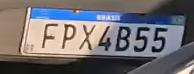Placa_mercosul_carro: (19, 6, 186, 57)
